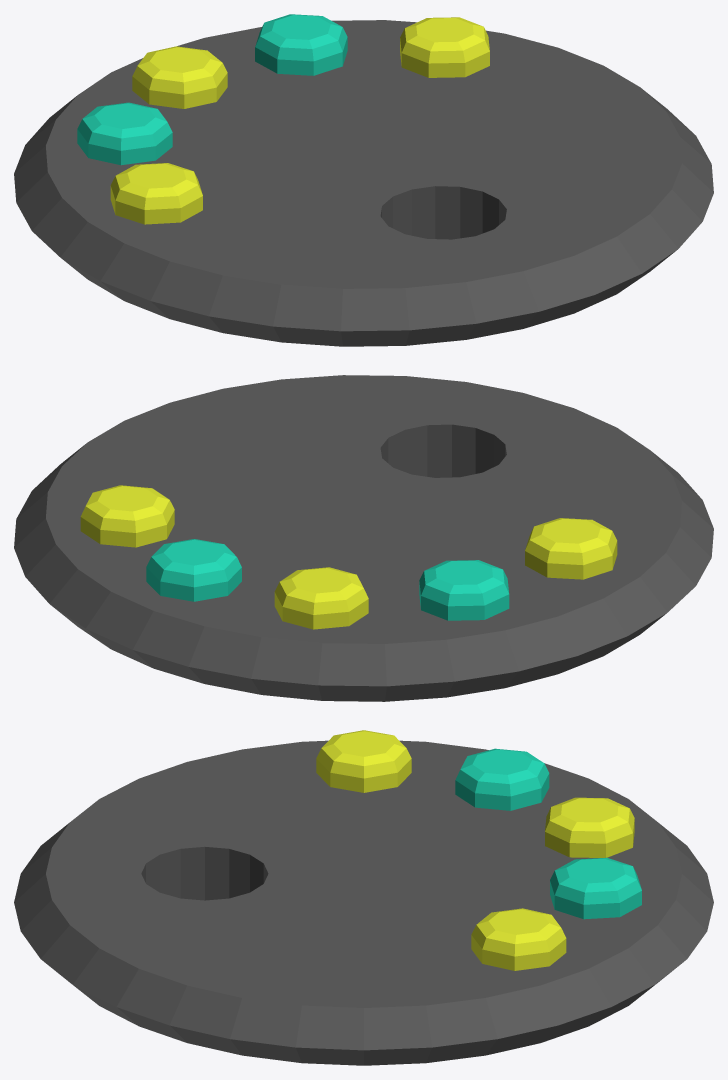
The model's file is fujis4.glb.
3 renders of one model, top to bottom at view 1: azimuth 30°, elevation 25°; view 2: azimuth 150°, elevation 25°; view 3: azimuth 270°, elevation 25°, orthographic.
Visible parts, largest first — view 1: fujis4; view 2: fujis4; view 3: fujis4.
Part boxes in pixels (box(x1,y1,x2,y2)): fujis4: box(14, 14, 713, 346); fujis4: box(14, 375, 713, 701); fujis4: box(14, 730, 713, 1065).
Size of the model in its own units: 2.2 by 0.3 by 2.2.
